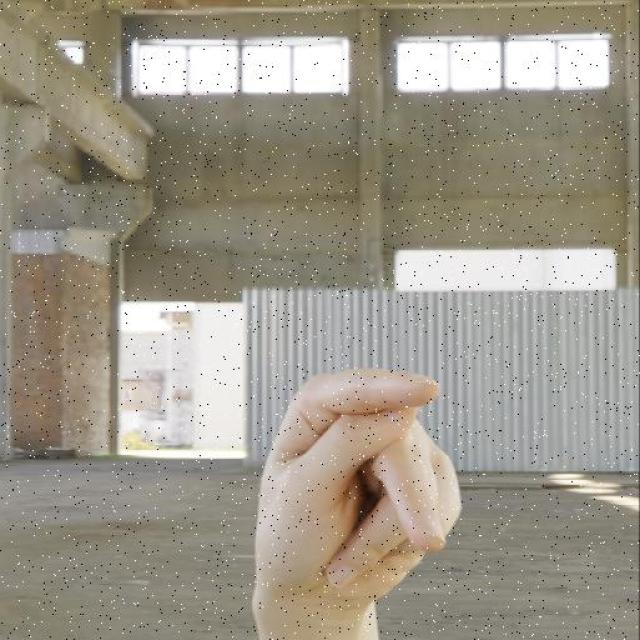P: (248, 363, 467, 629)
